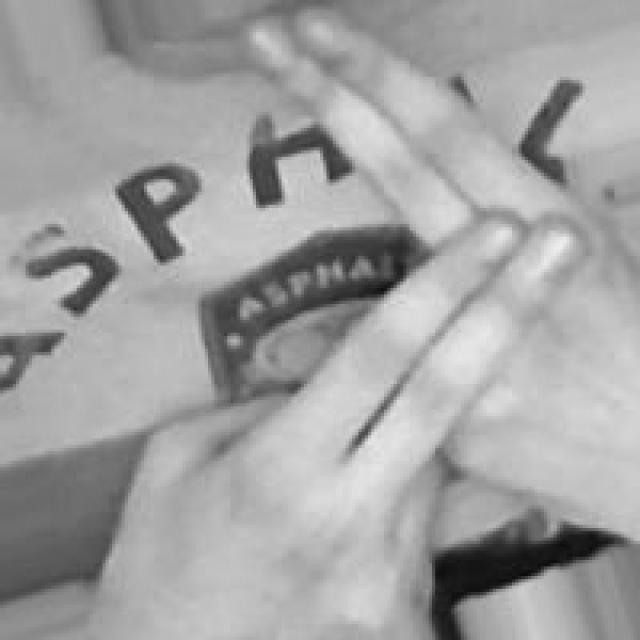K: (101, 6, 640, 640)
